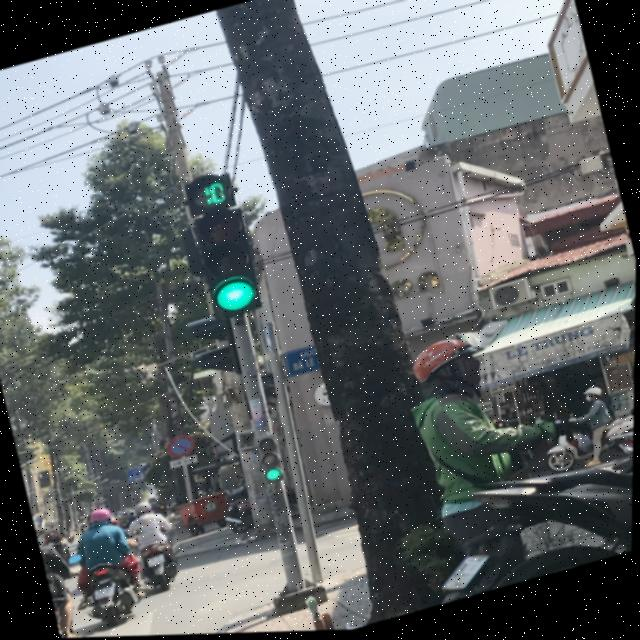Green: (179, 198, 279, 330), (250, 427, 290, 488)
